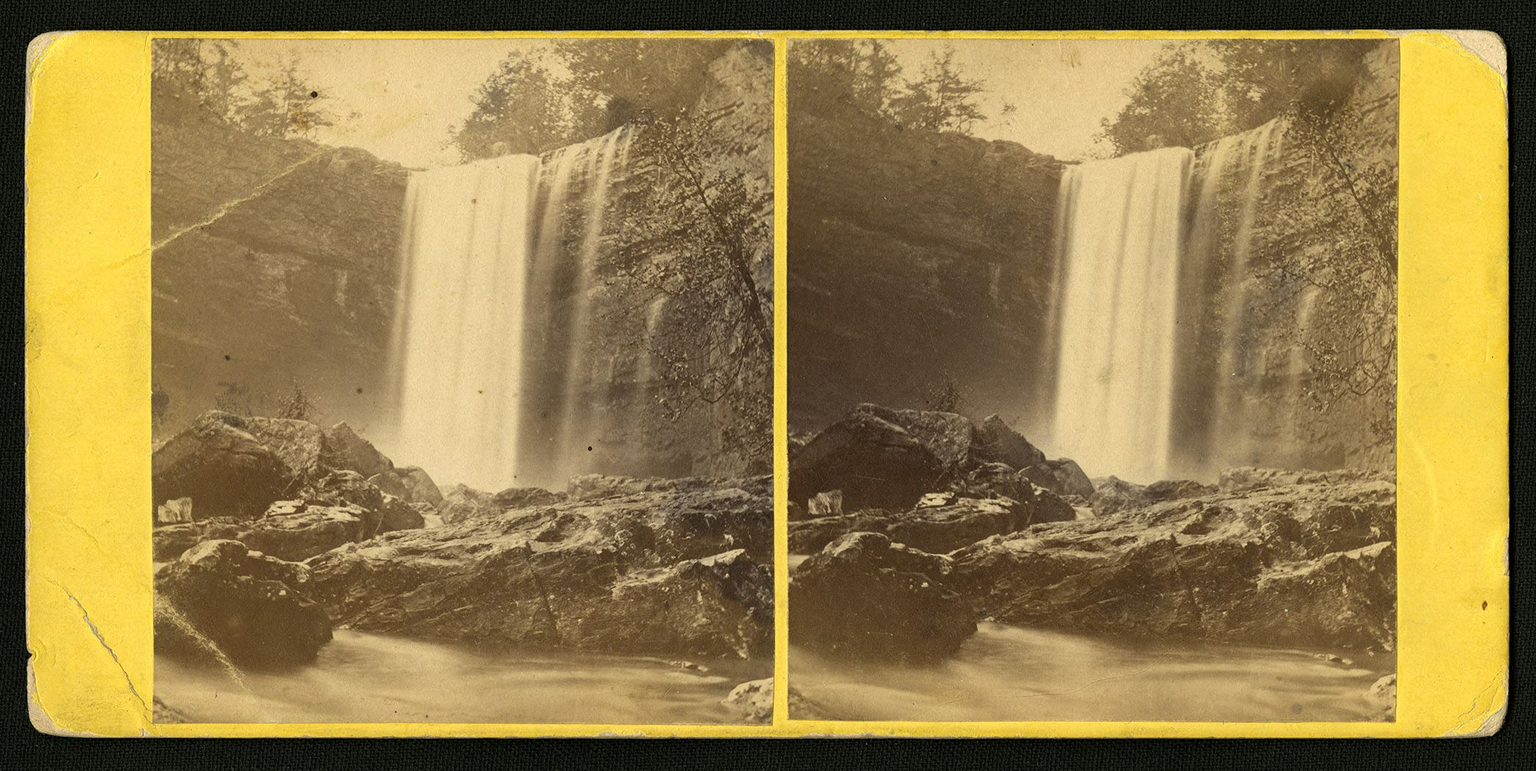half_image: (152, 39, 775, 725), (787, 37, 1401, 722)
